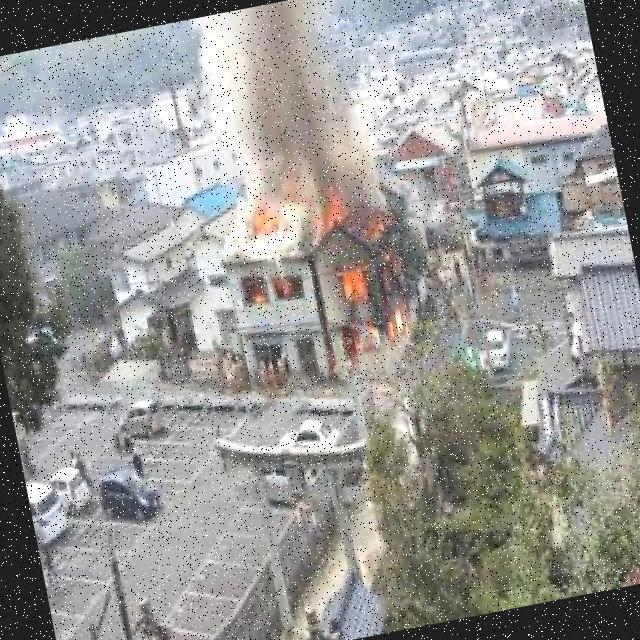Fire: (307, 193, 425, 362)
